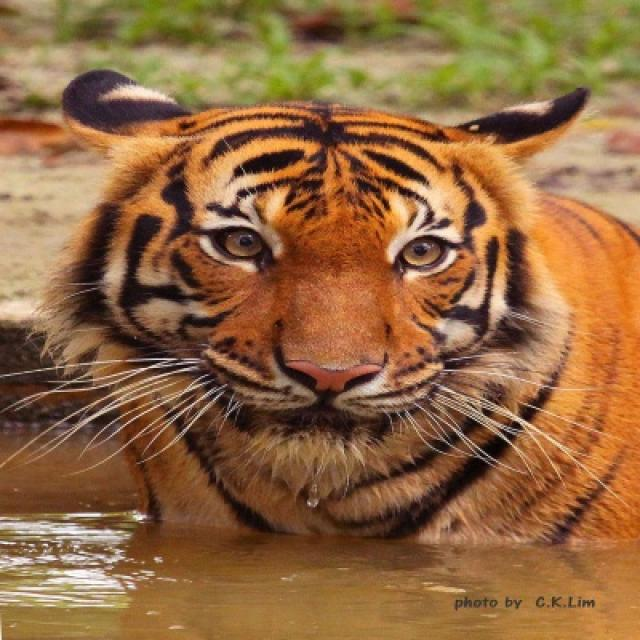Tiger: (41, 55, 636, 555)
